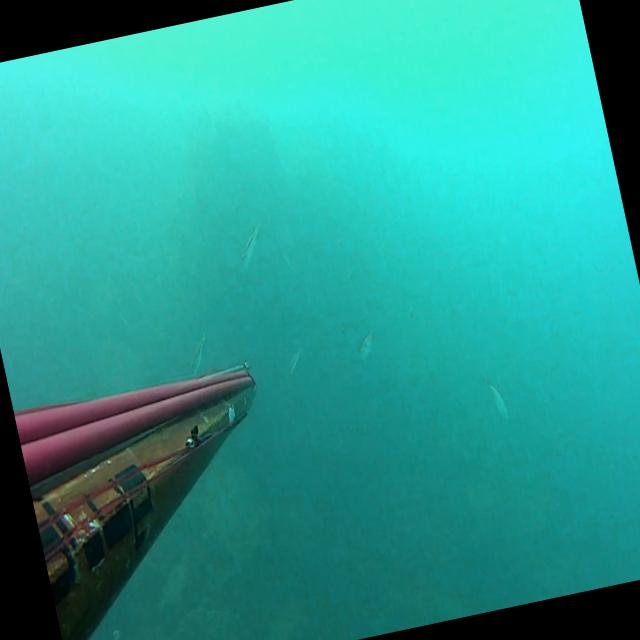Balon Baligi: (233, 219, 270, 267), (182, 326, 212, 374), (482, 372, 510, 422), (354, 329, 376, 359), (282, 346, 305, 374), (338, 263, 355, 282)
